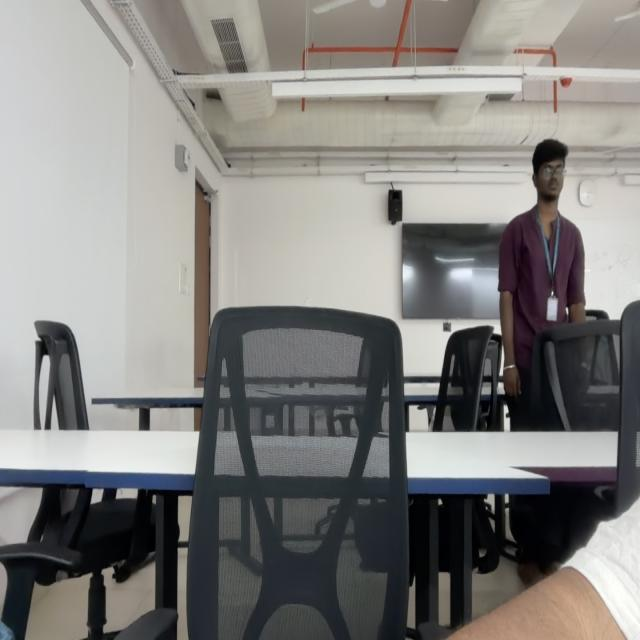ravindra: (531, 137, 568, 204)
